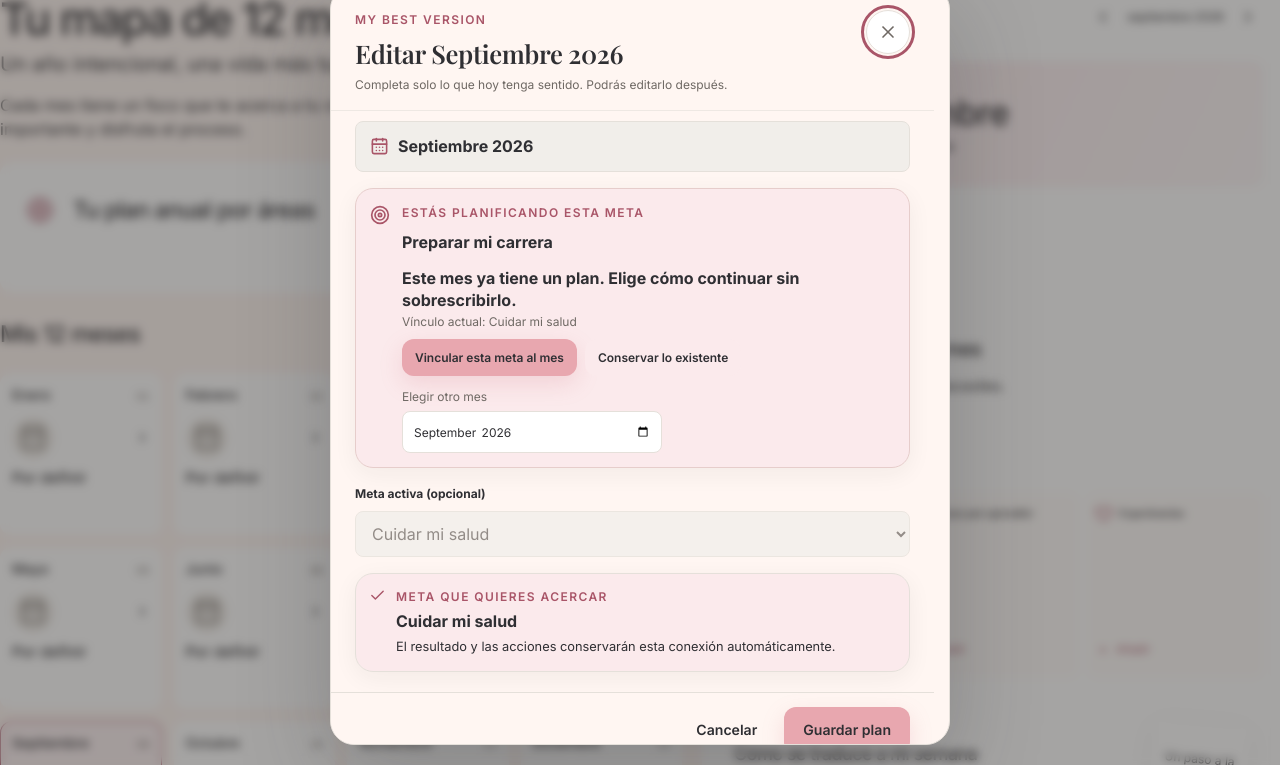
Test: monthly planning safeguards › reports the relationship actually saved after changing an earlier conflict choice
The width and height of the screenshot is (1280, 765).
Click the button "Conservar lo existente" at (663, 358), box [585,339,741,376]
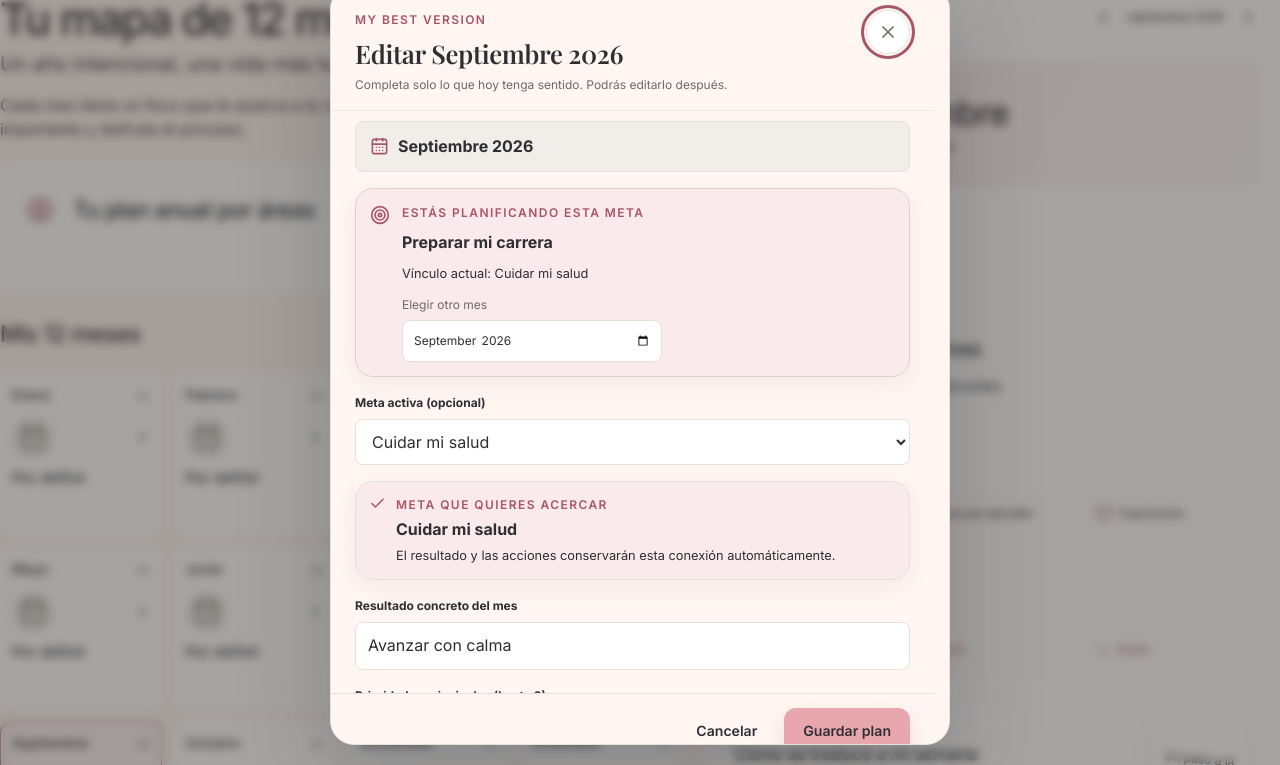
Select "Preparar mi carrera" in the dropdown labelled "Meta activa (opcional)" at (632, 442), box [355,419,910,465]
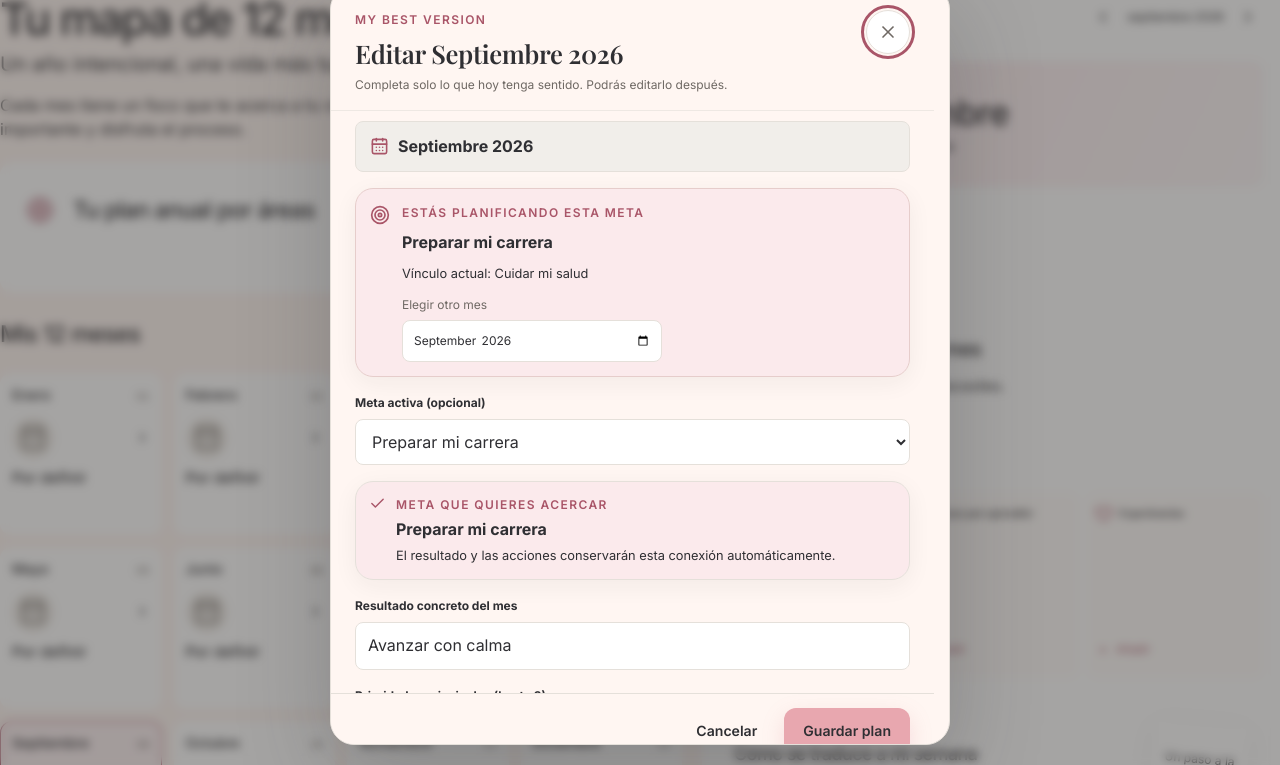
Click the button "Guardar plan" at (847, 731), box [784,708,910,754]
(page scrolled)
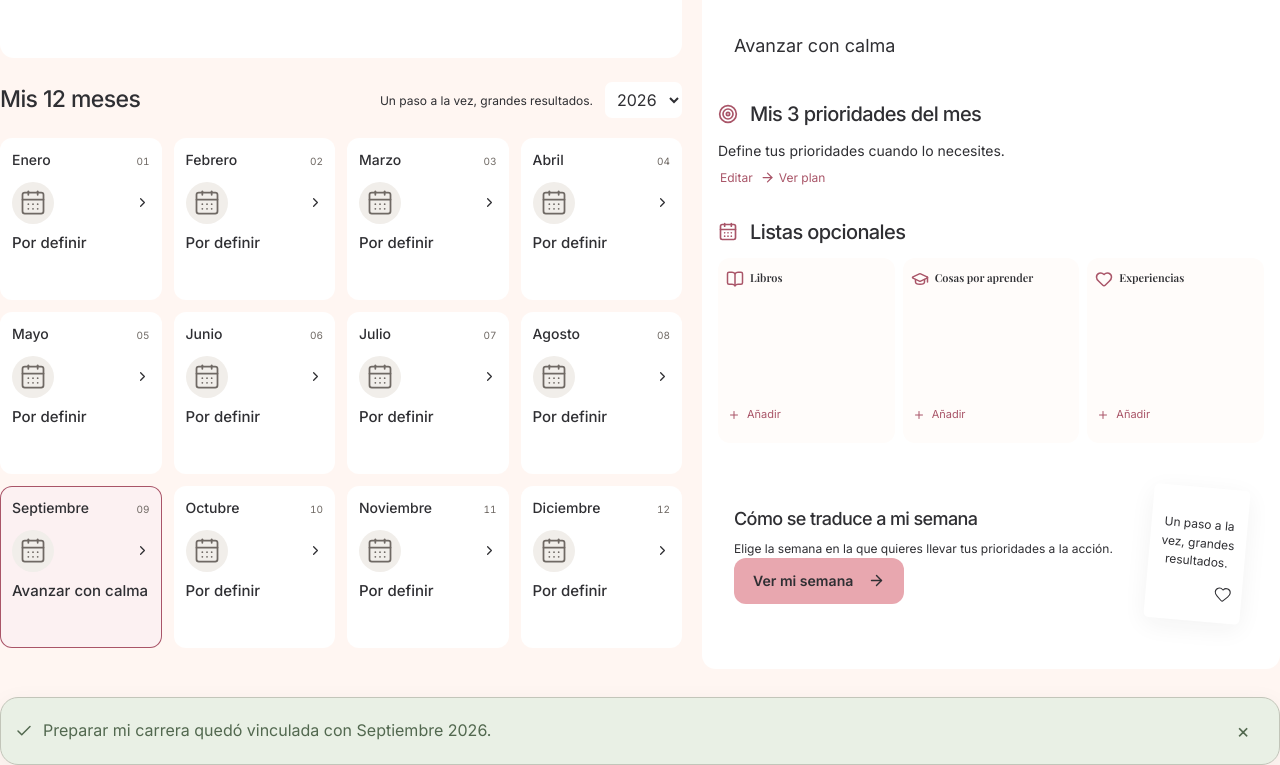
Expected: the message shows "Preparar mi carrera quedó vinculada", [43,720,491,740]
